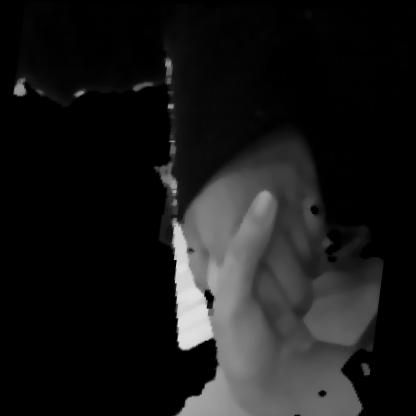handshake: (146, 76, 400, 415)
